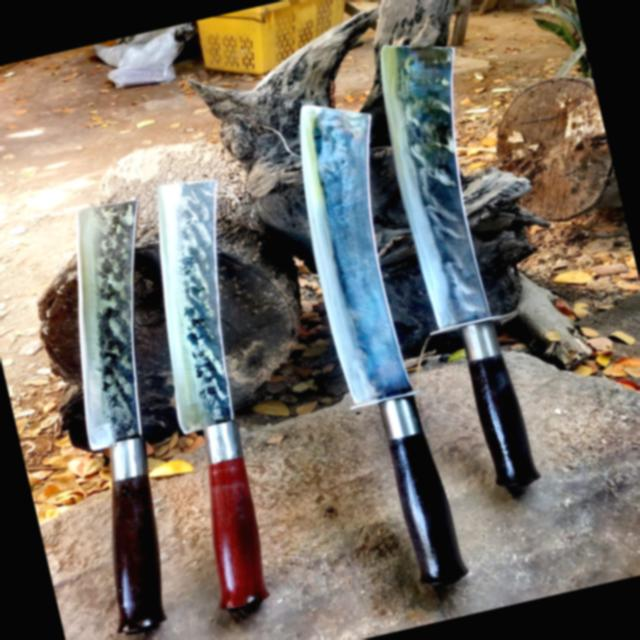eto: (291, 96, 474, 599), (150, 170, 282, 621), (68, 193, 174, 640)
